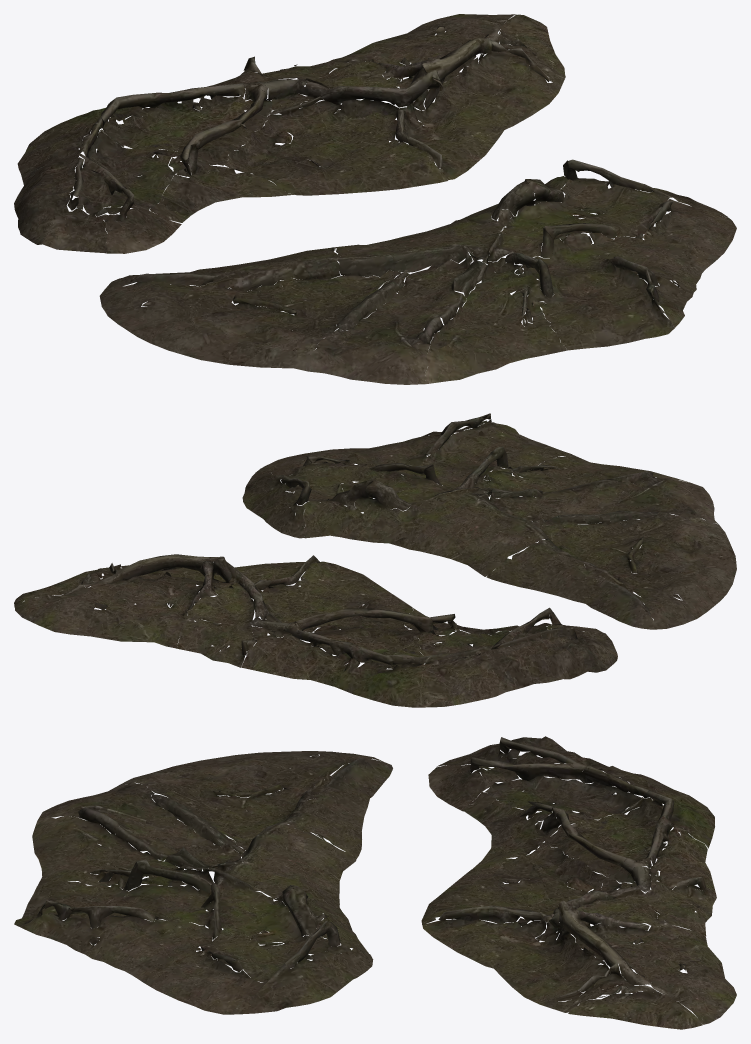
File: pine_roots.glb
3 renders of one model, top to bottom at view 1: azimuth 30°, elevation 25°; view 2: azimuth 150°, elevation 25°; view 3: azimuth 270°, elevation 25°, orthographic. The views are drawn at different scales.
Parts seen in each view (by area): view 1: pine_roots_b, pine_roots_a; view 2: pine_roots_b, pine_roots_a; view 3: pine_roots_b, pine_roots_a.
Part boxes in pixels (x1,y1,x2,y2): pine_roots_b: (99,159,736,384); pine_roots_a: (14,14,565,253); pine_roots_b: (242,413,736,629); pine_roots_a: (14,554,617,707); pine_roots_b: (14,751,392,1014); pine_roots_a: (421,736,736,1029).
Size of the model in its own units: 1.77 by 0.1557 by 1.89.
Materials: 2 (2 with a texture image).
